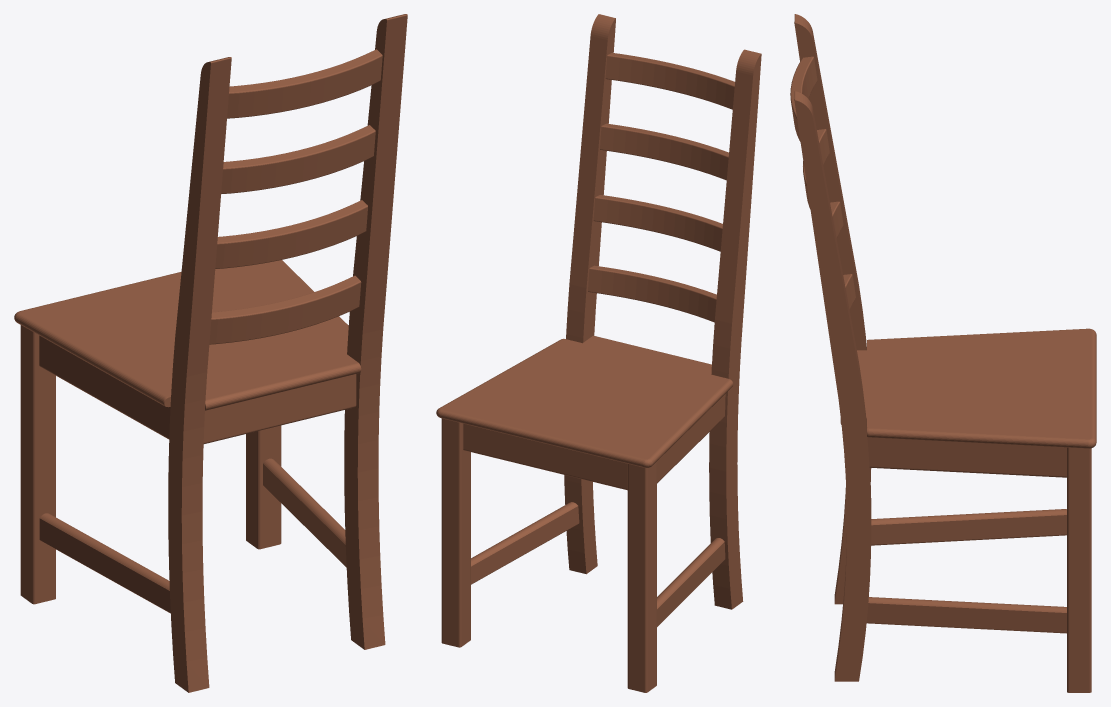
3 renders of one model, left to right at view 1: azimuth 30°, elevation 25°; view 2: azimuth 150°, elevation 25°; view 3: azimuth 270°, elevation 25°, orthographic. The views are drawn at different scales.
Visible parts, largest first — view 1: Mesh13 Assise1 Ikea___Kaustby1 Model, Mesh1 Montant_arri_re1 Ikea___Kaustby1 Model, Mesh15 Montant_arri_re2 Ikea___Kaustby1 Model, Mesh3 Montant_Avant1 Ikea___Kaustby1 Model, Mesh7 Barreau_2_4 Ikea___Kaustby1 Model, Mesh9 Barreau_1_2 Ikea___Kaustby1 Model, Mesh12 Barreau_1_4 Ikea___Kaustby1 Model, Mesh6 Barreau_1_1 Ikea___Kaustby1 Model, Mesh11 Barreau_1_3 Ikea___Kaustby1 Model, Mesh8 Barreau_3_1 Ikea___Kaustby1 Model, Mesh5 Barreau_2_3 Ikea___Kaustby1 Model, Mesh10 Montant_Avant2 Ikea___Kaustby1 Model (+1 smaller); view 2: Mesh13 Assise1 Ikea___Kaustby1 Model, Mesh1 Montant_arri_re1 Ikea___Kaustby1 Model, Mesh15 Montant_arri_re2 Ikea___Kaustby1 Model, Mesh3 Montant_Avant1 Ikea___Kaustby1 Model, Mesh10 Montant_Avant2 Ikea___Kaustby1 Model, Mesh4 Barreau_2_2 Ikea___Kaustby1 Model, Mesh9 Barreau_1_2 Ikea___Kaustby1 Model, Mesh6 Barreau_1_1 Ikea___Kaustby1 Model, Mesh12 Barreau_1_4 Ikea___Kaustby1 Model, Mesh11 Barreau_1_3 Ikea___Kaustby1 Model, Mesh14 Barreau_3_2 Ikea___Kaustby1 Model, Mesh8 Barreau_3_1 Ikea___Kaustby1 Model (+1 smaller); view 3: Mesh13 Assise1 Ikea___Kaustby1 Model, Mesh15 Montant_arri_re2 Ikea___Kaustby1 Model, Mesh10 Montant_Avant2 Ikea___Kaustby1 Model, Mesh2 Barreau_2_1 Ikea___Kaustby1 Model, Mesh14 Barreau_3_2 Ikea___Kaustby1 Model, Mesh8 Barreau_3_1 Ikea___Kaustby1 Model, Mesh1 Montant_arri_re1 Ikea___Kaustby1 Model, Mesh9 Barreau_1_2 Ikea___Kaustby1 Model.
Boxes of the visible parts, <box> form: Mesh13 Assise1 Ikea___Kaustby1 Model: <box>14,260,361,410</box>; Mesh1 Montant_arri_re1 Ikea___Kaustby1 Model: <box>168,57,231,692</box>; Mesh15 Montant_arri_re2 Ikea___Kaustby1 Model: <box>344,14,407,649</box>; Mesh3 Montant_Avant1 Ikea___Kaustby1 Model: <box>20,325,55,604</box>; Mesh7 Barreau_2_4 Ikea___Kaustby1 Model: <box>203,374,356,443</box>; Mesh9 Barreau_1_2 Ikea___Kaustby1 Model: <box>227,49,382,118</box>; Mesh12 Barreau_1_4 Ikea___Kaustby1 Model: <box>221,125,375,194</box>; Mesh6 Barreau_1_1 Ikea___Kaustby1 Model: <box>215,200,367,268</box>; Mesh11 Barreau_1_3 Ikea___Kaustby1 Model: <box>209,275,361,344</box>; Mesh8 Barreau_3_1 Ikea___Kaustby1 Model: <box>39,513,170,613</box>; Mesh5 Barreau_2_3 Ikea___Kaustby1 Model: <box>39,335,170,439</box>; Mesh10 Montant_Avant2 Ikea___Kaustby1 Model: <box>246,425,281,549</box>; Mesh13 Assise1 Ikea___Kaustby1 Model: <box>436,335,733,467</box>; Mesh1 Montant_arri_re1 Ikea___Kaustby1 Model: <box>709,49,761,609</box>; Mesh15 Montant_arri_re2 Ikea___Kaustby1 Model: <box>564,14,615,574</box>; Mesh3 Montant_Avant1 Ikea___Kaustby1 Model: <box>627,461,656,692</box>; Mesh10 Montant_Avant2 Ikea___Kaustby1 Model: <box>441,418,470,647</box>; Mesh4 Barreau_2_2 Ikea___Kaustby1 Model: <box>463,423,627,490</box>; Mesh9 Barreau_1_2 Ikea___Kaustby1 Model: <box>605,52,734,109</box>; Mesh6 Barreau_1_1 Ikea___Kaustby1 Model: <box>593,195,722,251</box>; Mesh12 Barreau_1_4 Ikea___Kaustby1 Model: <box>600,123,728,180</box>; Mesh11 Barreau_1_3 Ikea___Kaustby1 Model: <box>588,265,716,322</box>; Mesh14 Barreau_3_2 Ikea___Kaustby1 Model: <box>471,502,579,584</box>; Mesh8 Barreau_3_1 Ikea___Kaustby1 Model: <box>657,538,725,626</box>; Mesh13 Assise1 Ikea___Kaustby1 Model: <box>840,328,1096,448</box>; Mesh15 Montant_arri_re2 Ikea___Kaustby1 Model: <box>794,91,871,681</box>; Mesh10 Montant_Avant2 Ikea___Kaustby1 Model: <box>1067,447,1091,692</box>; Mesh2 Barreau_2_1 Ikea___Kaustby1 Model: <box>867,437,1066,477</box>; Mesh14 Barreau_3_2 Ikea___Kaustby1 Model: <box>866,597,1066,633</box>; Mesh8 Barreau_3_1 Ikea___Kaustby1 Model: <box>871,509,1066,545</box>; Mesh1 Montant_arri_re1 Ikea___Kaustby1 Model: <box>794,14,871,604</box>; Mesh9 Barreau_1_2 Ikea___Kaustby1 Model: <box>790,56,817,141</box>.
Bounding box in the file's own units: 0.3602 × 0.8538 × 0.4075.
